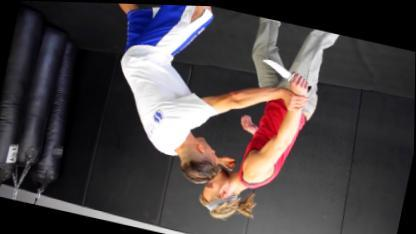knife: (254, 52, 318, 94)
